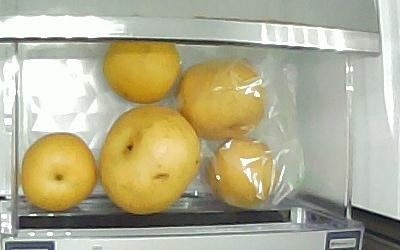pear: (100, 105, 201, 217), (21, 133, 96, 213), (103, 41, 182, 104)
pear_vinyl: (177, 59, 267, 138), (209, 136, 282, 206)
